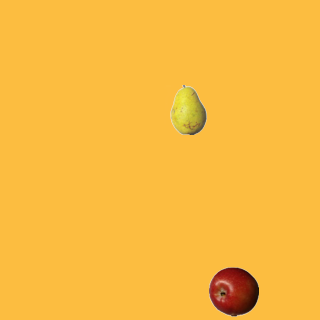Apple Braeburn: (208, 266, 258, 316)
Pear Monster: (163, 84, 213, 134)
